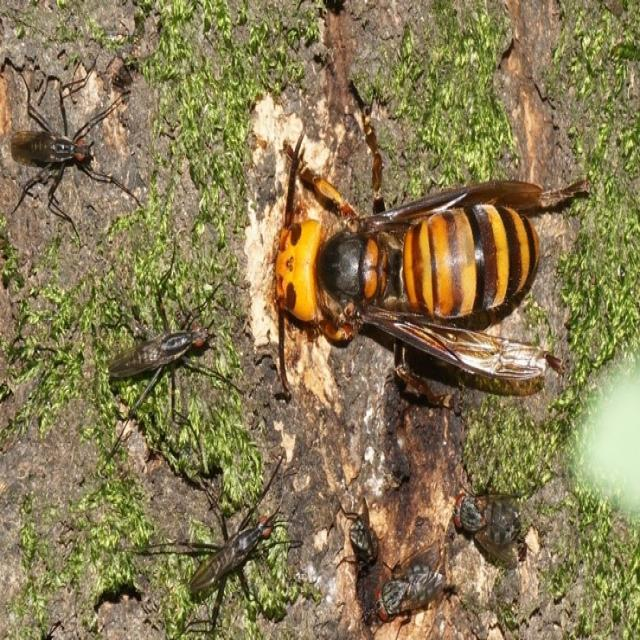Wasp: (245, 144, 589, 386)
